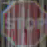Stop: (6, 0, 46, 45)
